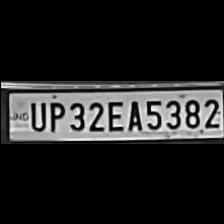2: (201, 95, 221, 129), (84, 97, 104, 130)
3: (65, 97, 84, 130), (164, 95, 181, 129)
5: (142, 95, 162, 129)
8: (182, 95, 200, 129)
A: (124, 96, 142, 130)
E: (104, 97, 124, 131)
P: (44, 97, 64, 130)
U: (26, 98, 44, 130)
